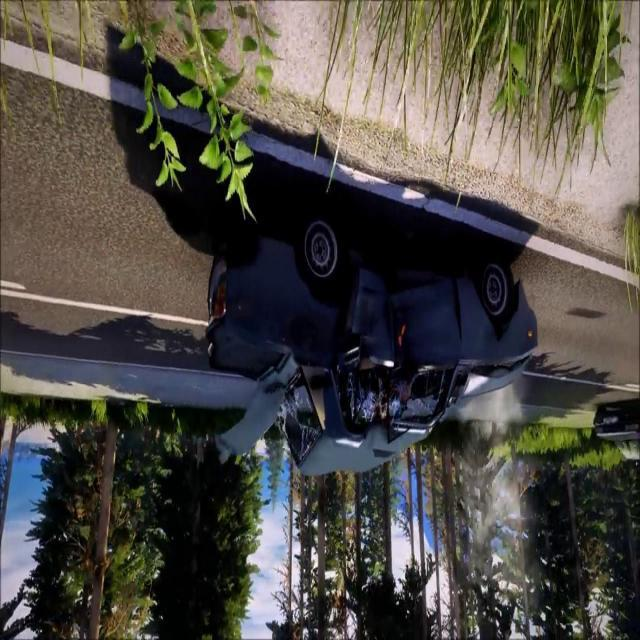severe: (202, 209, 544, 480)
